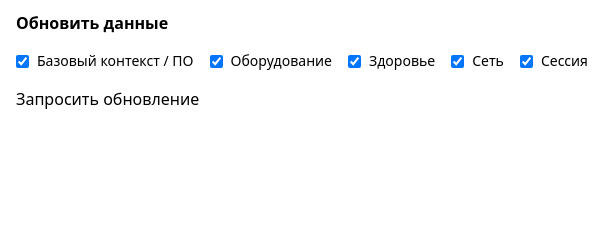
Test: Context collection lifecycle › keeps failed terminal without falsely refreshing successful context
Step 1. Click the button "Запросить обновление" → click(108, 99), box [16, 87, 199, 111]
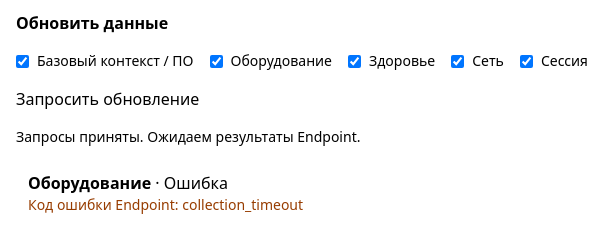
Expected: the text "Код ошибки Endpoint: collection_timeout" is shown, [28, 195, 303, 214]
